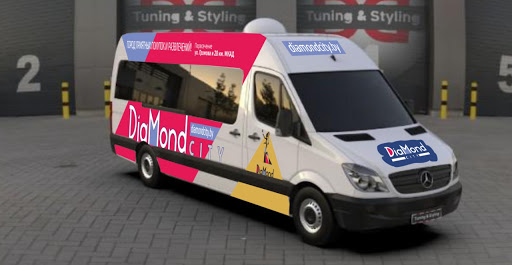van: (107, 29, 461, 244)
